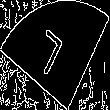L_SW: (36, 25, 74, 85)
